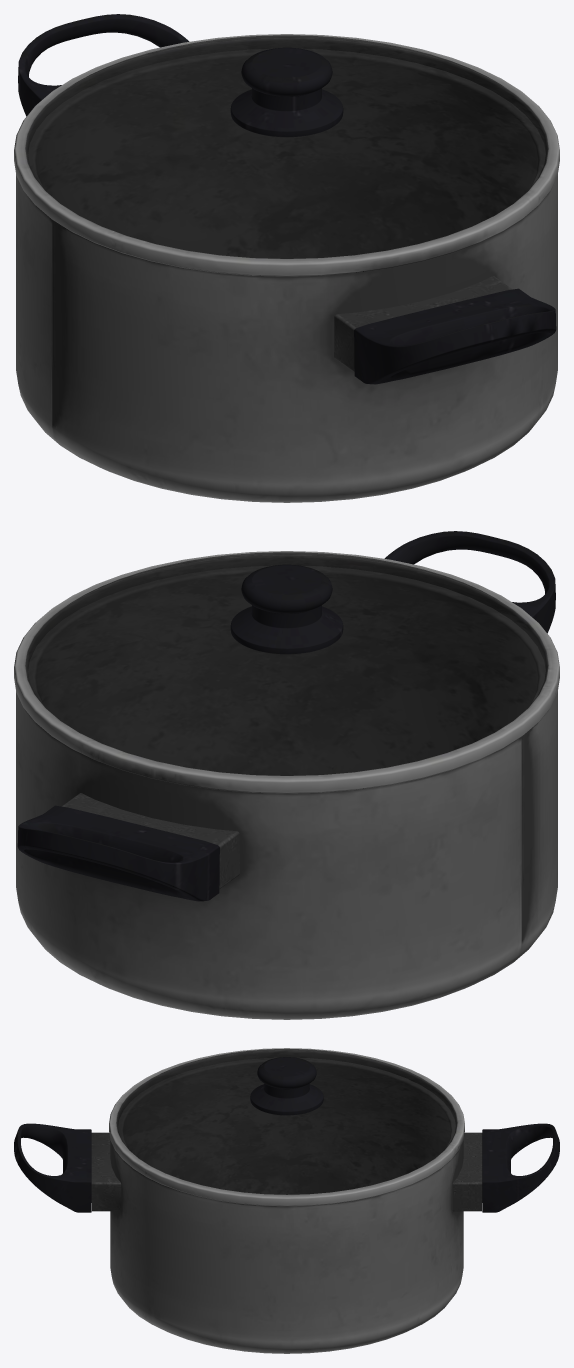
The model's file is cooking-pot.glb.
3 renders of one model, top to bottom at view 1: azimuth 30°, elevation 25°; view 2: azimuth 150°, elevation 25°; view 3: azimuth 270°, elevation 25°, orthographic. The views are drawn at different scales.
Parts seen in each view (by area): view 1: Mesh_Default_0, Mesh_Glass_0; view 2: Mesh_Default_0, Mesh_Glass_0; view 3: Mesh_Default_0, Mesh_Glass_0.
Boxes of the visible parts, x1,y1,x2,y2 form: Mesh_Default_0: (14,14,559,502); Mesh_Glass_0: (25,35,548,258); Mesh_Default_0: (14,531,559,1019); Mesh_Glass_0: (25,552,548,775); Mesh_Default_0: (14,1048,559,1353); Mesh_Glass_0: (116,1049,457,1194).
Size of the model in its own units: 0.24 by 0.163 by 0.368.
Materials: 2 (2 with a texture image).
